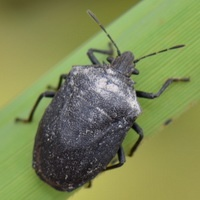insect: (16, 11, 188, 191)
